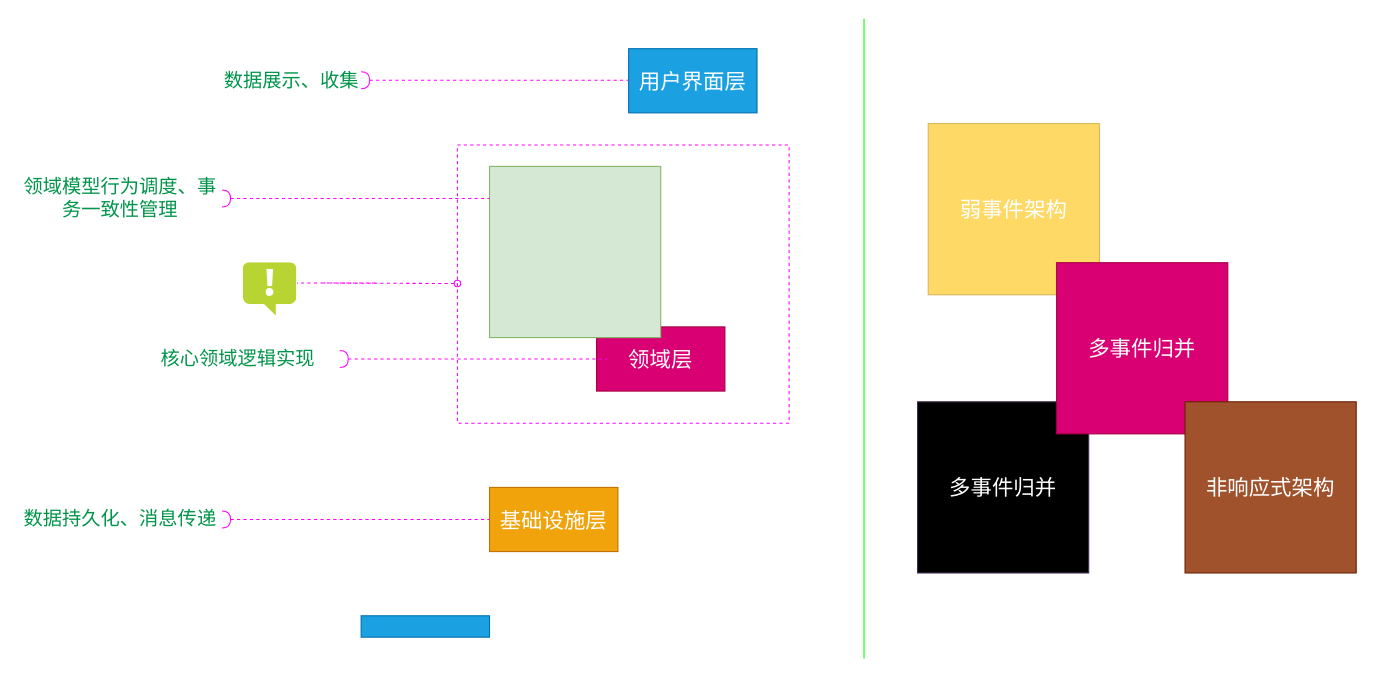
Some shapes in this 1375 by 678 pixel diagram are drawn without their labels. The centre of each missing label's shape, as x and y in pixels:
应用层: the point at 574,251
防腐层（应用层腐蚀？）: the point at 425,626
